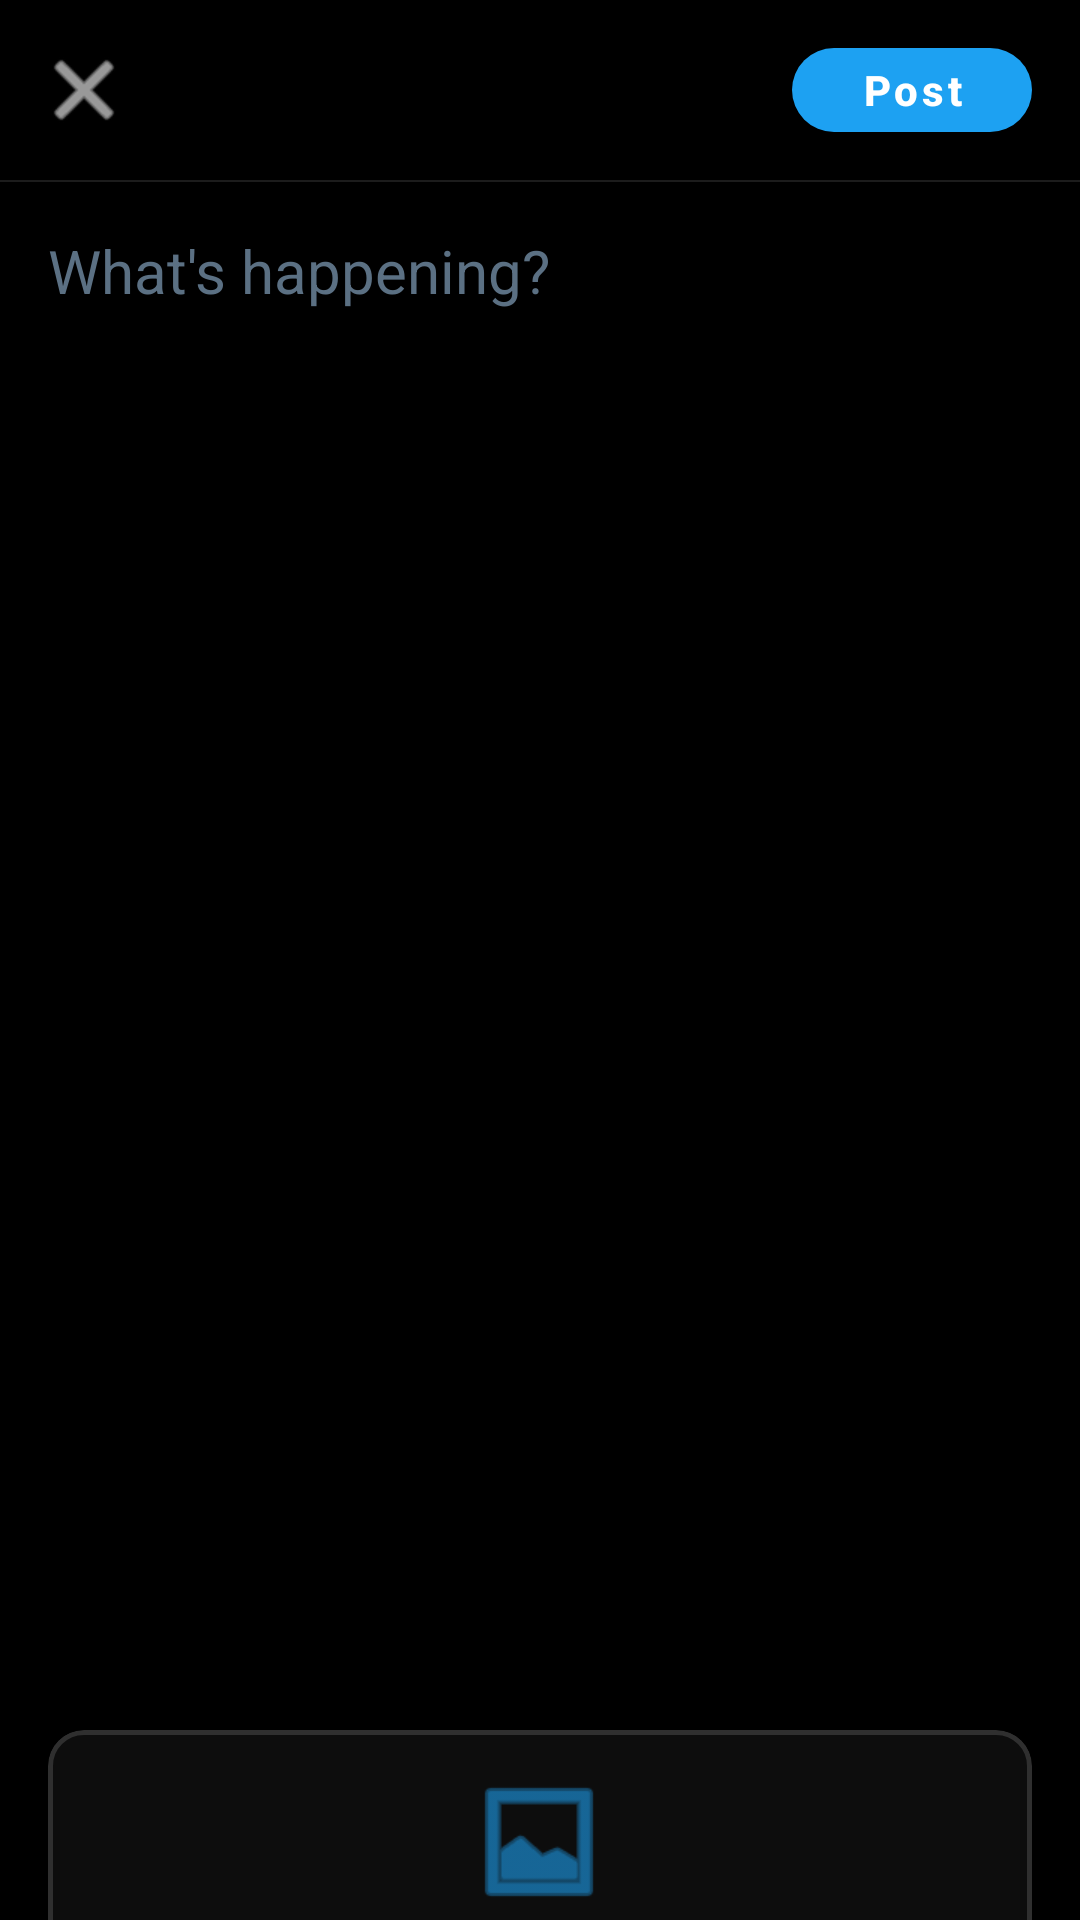

Icon bounding boxes for this 1080 × 1920 phone screenshot, format [left=x1, top=y1, right=x2, bottom=y2]:
Add image: [left=485, top=1788, right=593, bottom=1896]
Close: [left=54, top=60, right=114, bottom=120]
